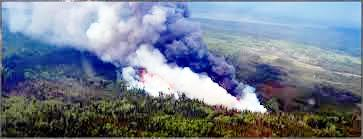fire: (126, 58, 273, 123)
